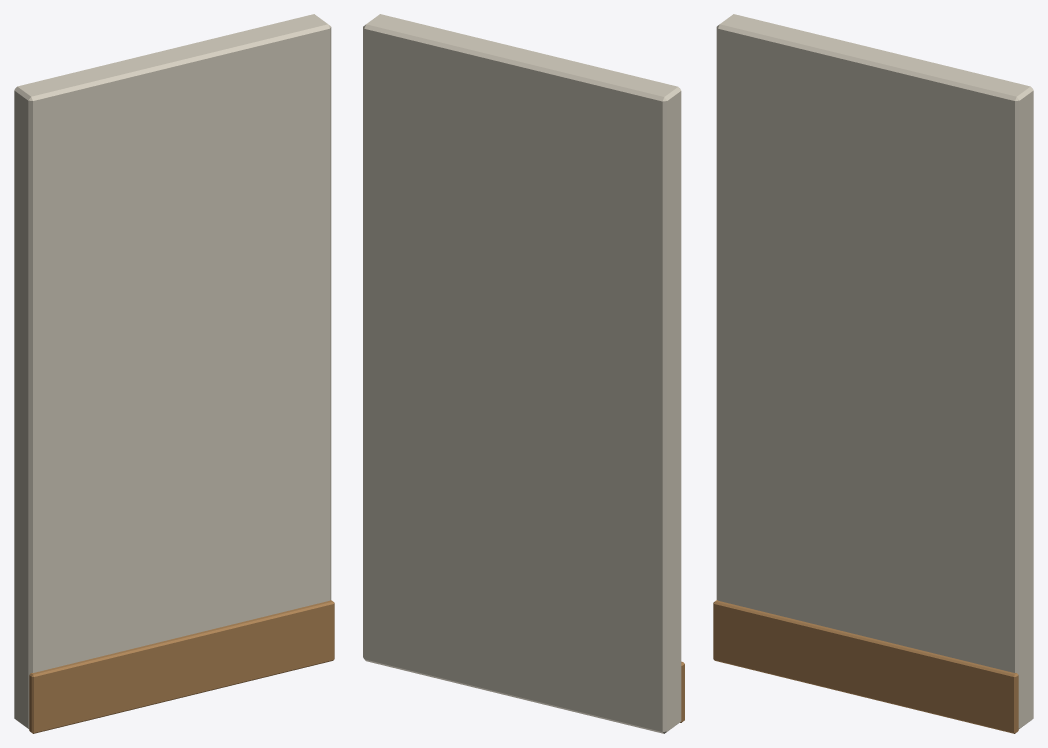
Rendered from wall_straight.glb.
The picture shows the model from 3 angles, left to right: view 1: azimuth 30°, elevation 25°; view 2: azimuth 150°, elevation 25°; view 3: azimuth 330°, elevation 25°; orthographic projection.
Visible parts, largest first — view 1: wall_straight; view 2: wall_straight; view 3: wall_straight.
Boxes of the visible parts, x1,y1,x2,y2 form: wall_straight: (14, 14, 334, 733); wall_straight: (363, 14, 684, 733); wall_straight: (713, 14, 1033, 733).
Bounding box in the file's own units: 1.5 × 3 × 0.1725.
